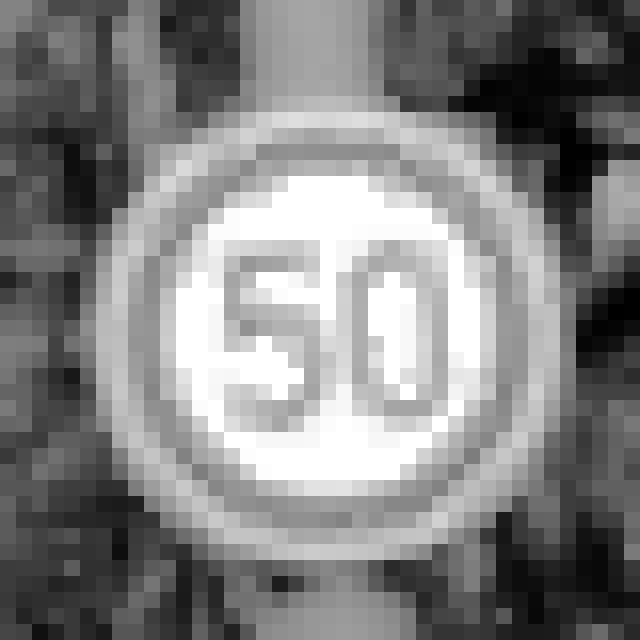50 kph: (80, 80, 544, 544)
